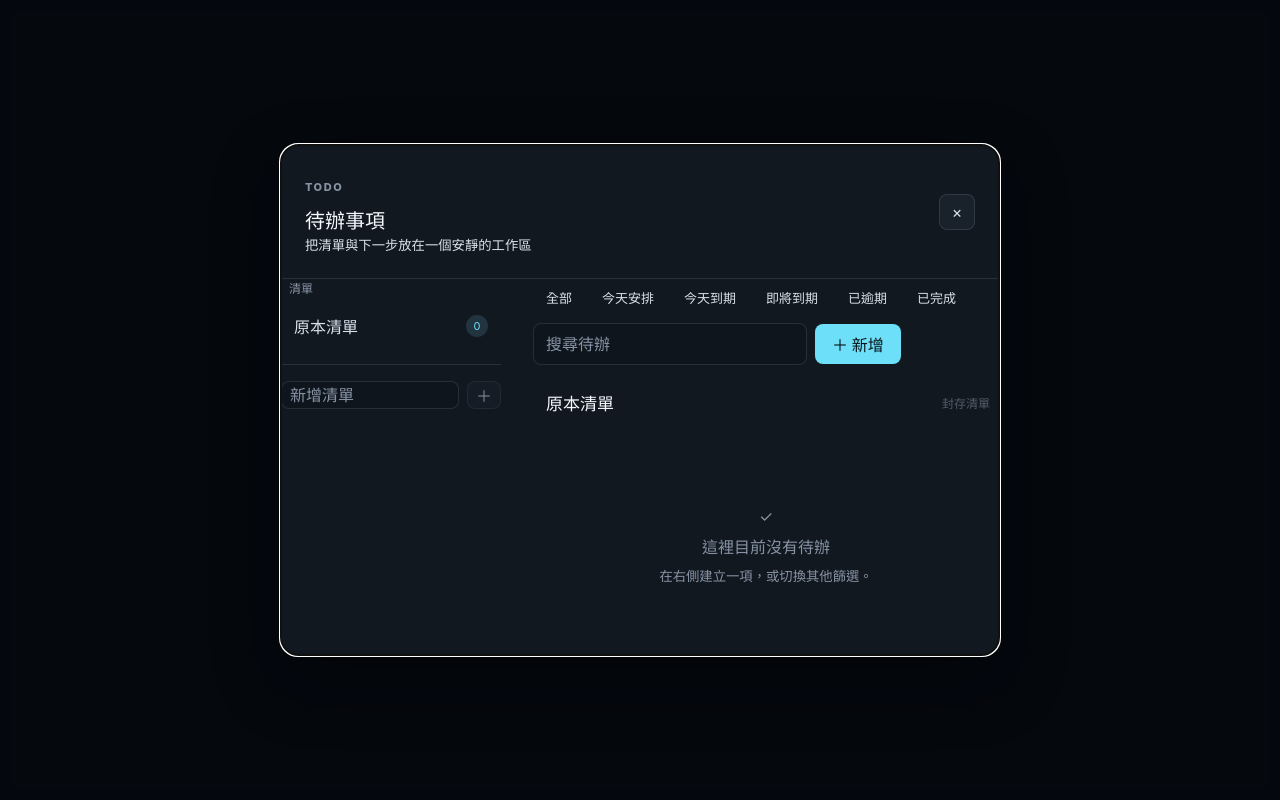
it: TodoDialog list binding › persists the widget binding when creating a list
This screenshot has width=1280, height=800.
In the field named "新增清單名稱": point(370, 395) x1=281 y1=381 x2=459 y2=409, type "Unity"
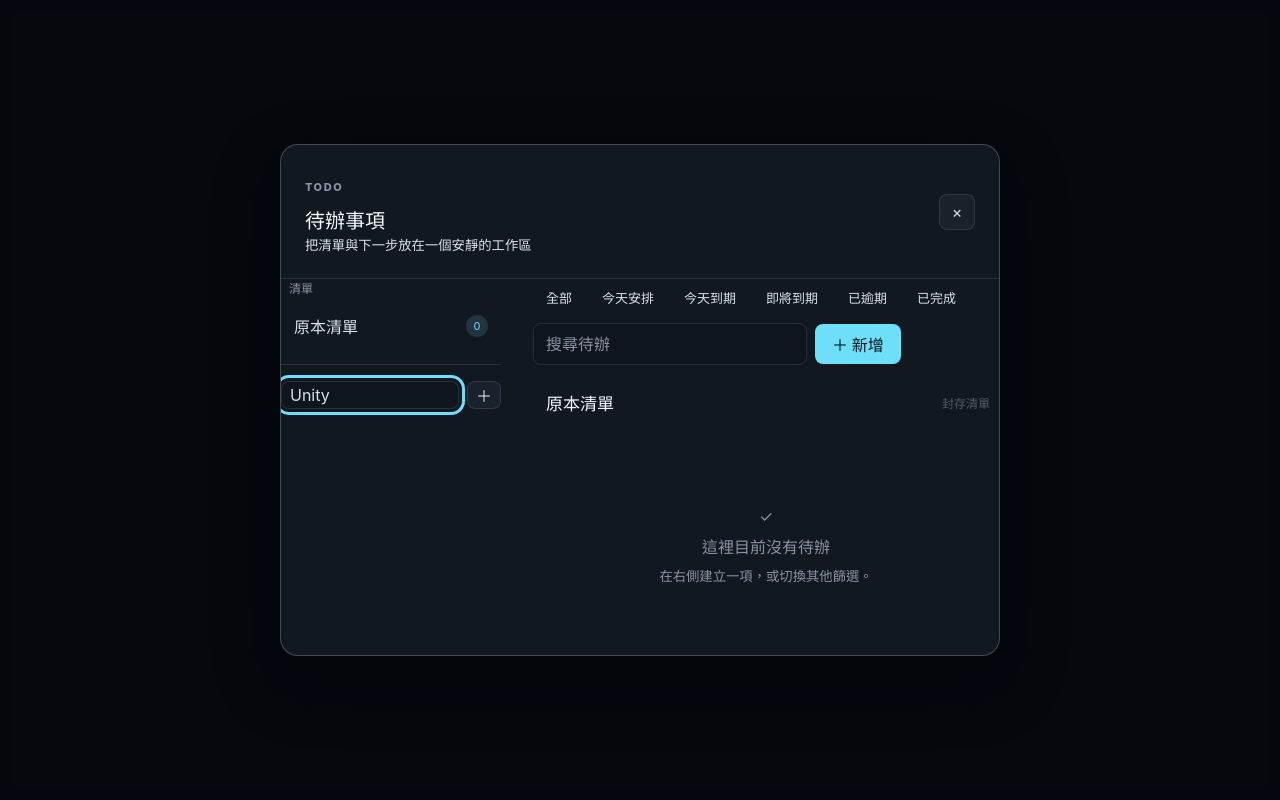
Click the button named "建立清單": point(484, 395) x1=467 y1=381 x2=501 y2=409
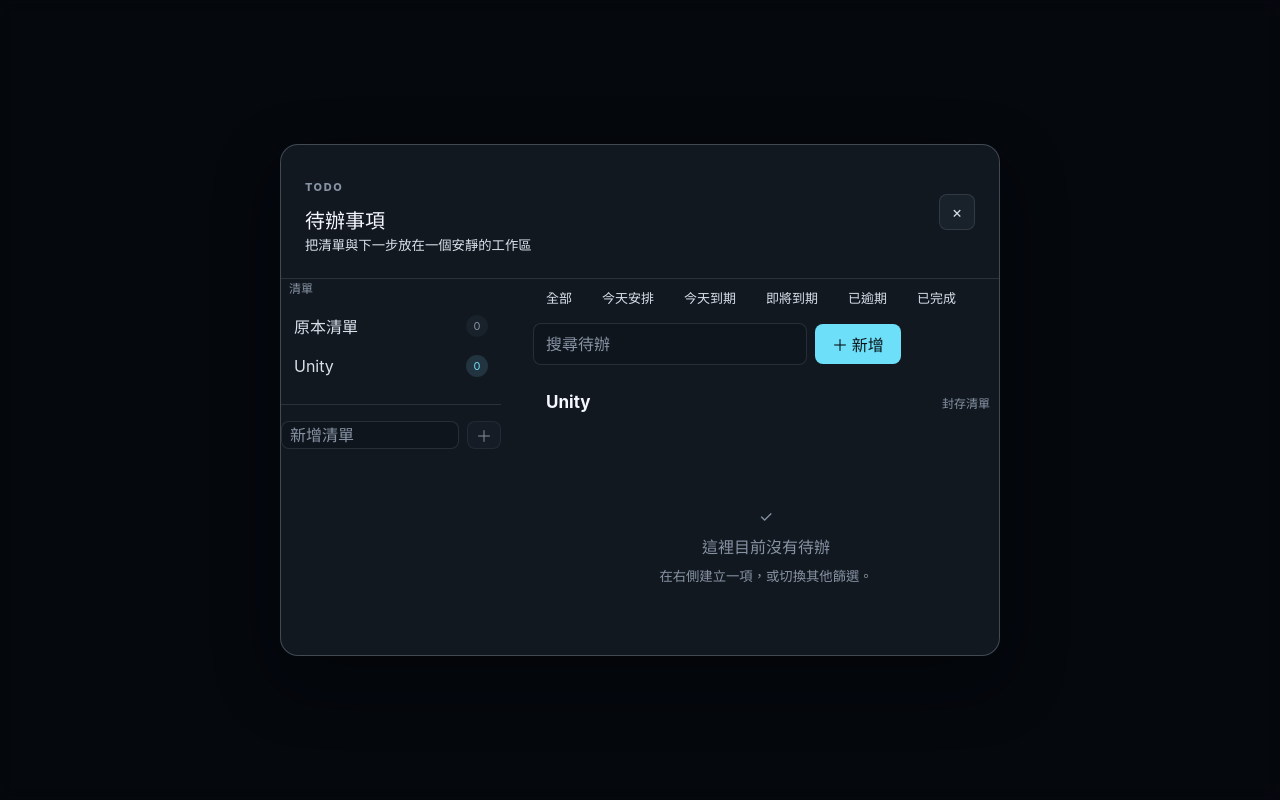
Now the field showing "Unity" is shown, box x1=533 y1=381 x2=868 y2=423
